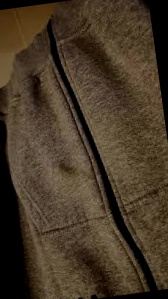oil: (52, 155, 73, 176)
